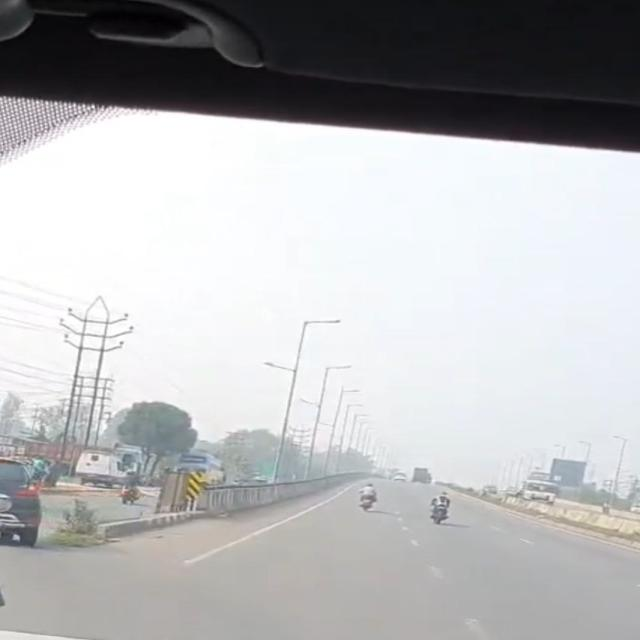object_hazzard_to_left: (185, 468, 205, 506)
